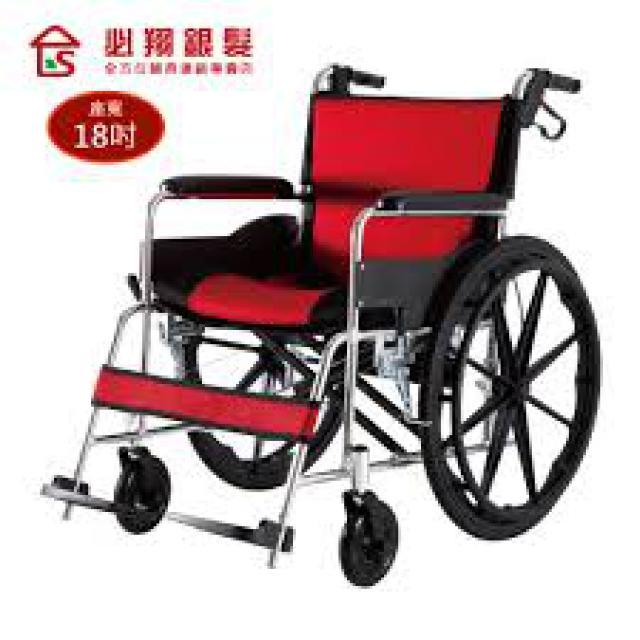wheelchair: (29, 51, 612, 595)
